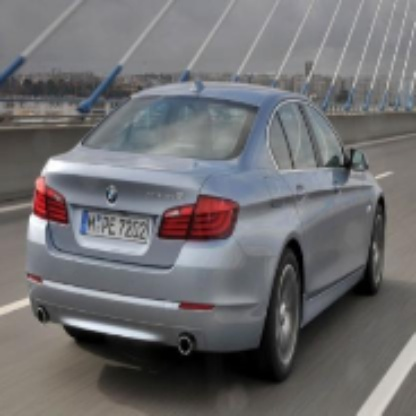Vehicle: (21, 74, 394, 382)
